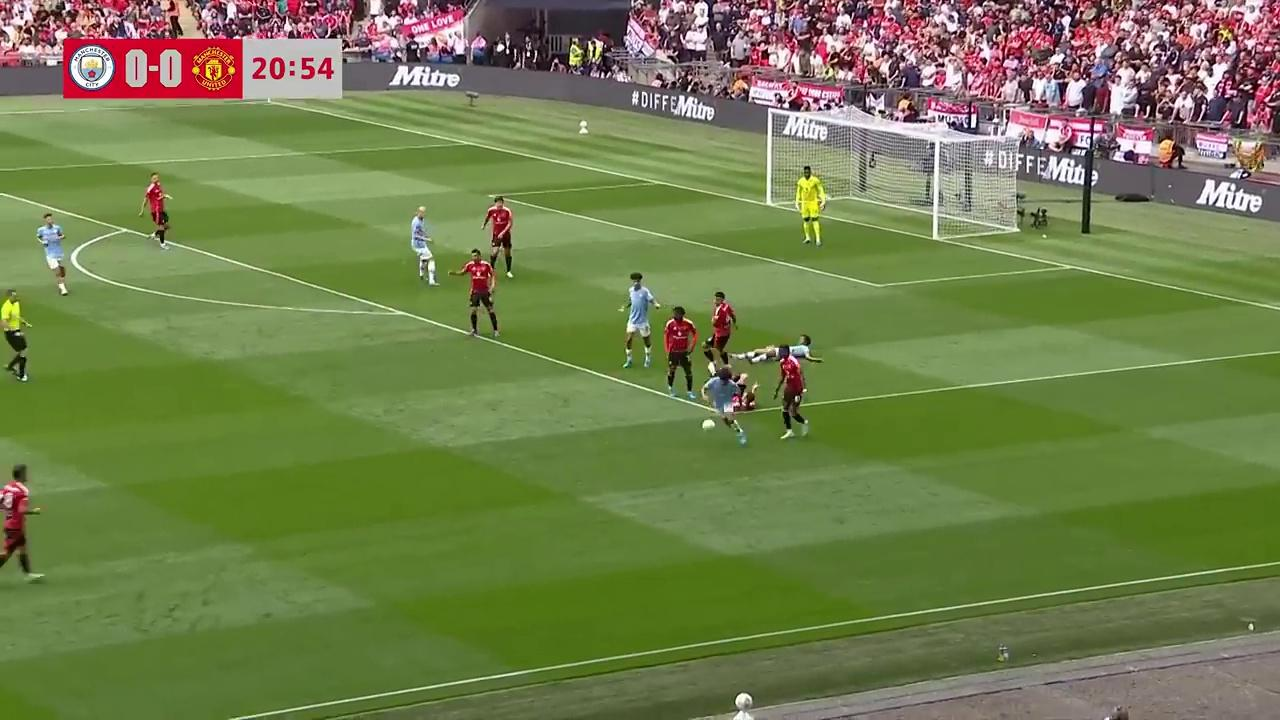player: (0, 464, 46, 581), (700, 360, 759, 446), (451, 249, 500, 340), (772, 336, 814, 439), (618, 272, 661, 368), (663, 305, 699, 399), (35, 213, 68, 296), (482, 195, 514, 278), (705, 290, 737, 371), (139, 173, 172, 249), (410, 207, 437, 285), (797, 166, 823, 246), (712, 372, 760, 412)
referee: (0, 289, 32, 381)
